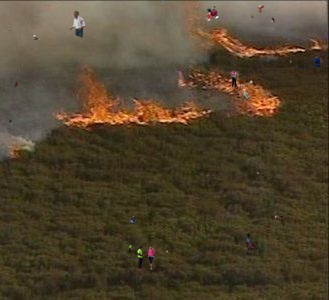Human: (137, 245, 156, 271), (68, 11, 86, 38), (295, 53, 323, 69), (195, 6, 219, 21), (257, 5, 275, 22), (245, 233, 256, 255), (238, 89, 250, 102), (230, 69, 238, 88), (240, 80, 253, 88), (130, 216, 136, 228), (275, 214, 285, 220), (59, 107, 65, 114), (128, 244, 132, 253), (14, 79, 18, 88), (33, 35, 40, 40), (9, 27, 13, 35), (8, 119, 12, 126), (162, 0, 168, 4), (207, 174, 214, 177), (166, 250, 168, 256), (251, 14, 254, 18), (290, 58, 292, 64), (43, 130, 47, 132), (323, 202, 325, 206), (257, 172, 259, 174), (200, 2, 201, 5), (173, 289, 174, 290)
